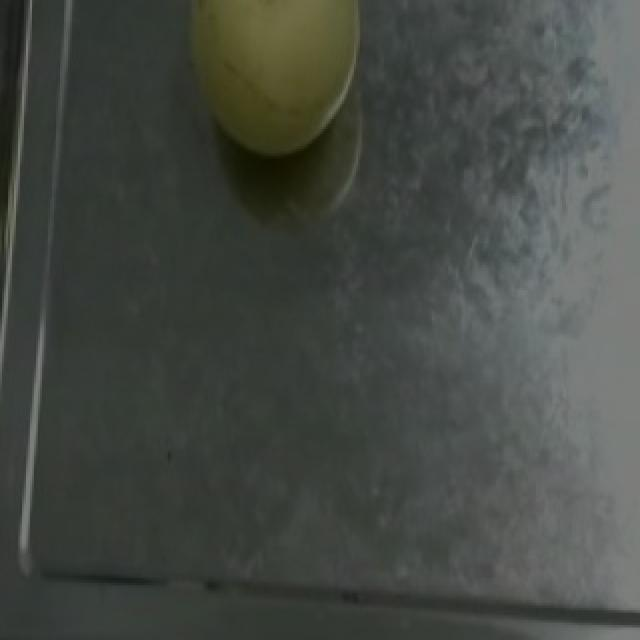Fruit: (168, 0, 376, 166)
